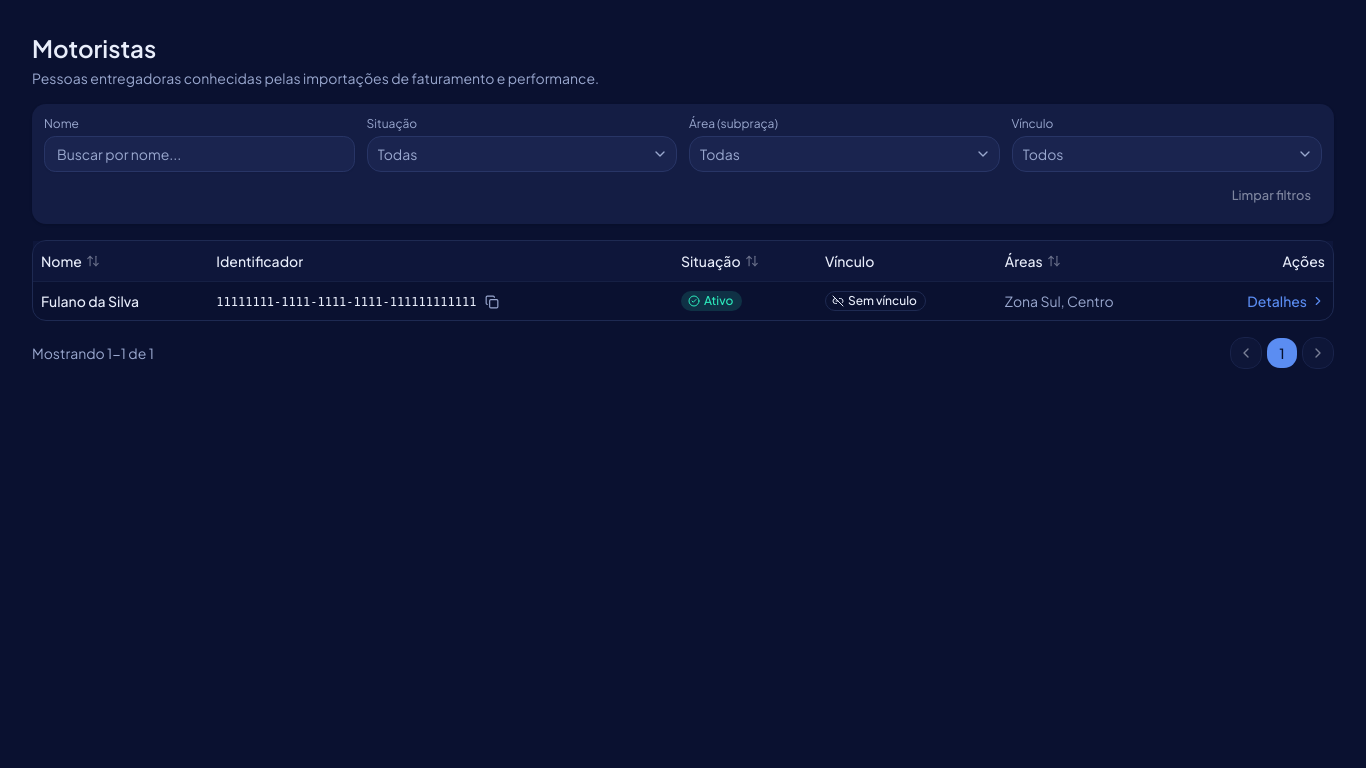
Test: MotoristasPage › modal de detalhe sem vínculo: CNPJ vazio e badge "Sem vínculo"
Click the button "Detalhes": (1286, 300) [1247,290,1325,310]
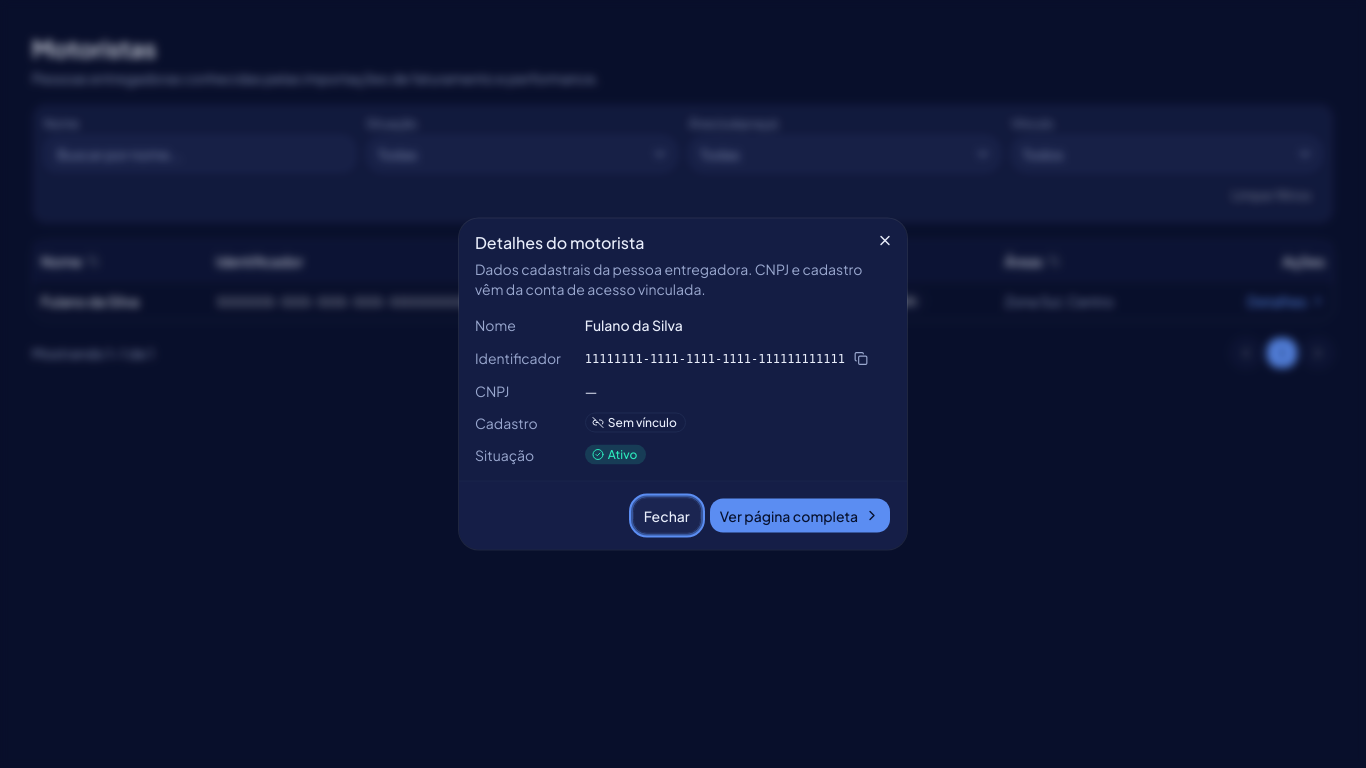
Now the heading "Detalhes do motorista" is shown, box [475,232,644,252]
Now the text "—" is shown, box [585,382,598,400]
